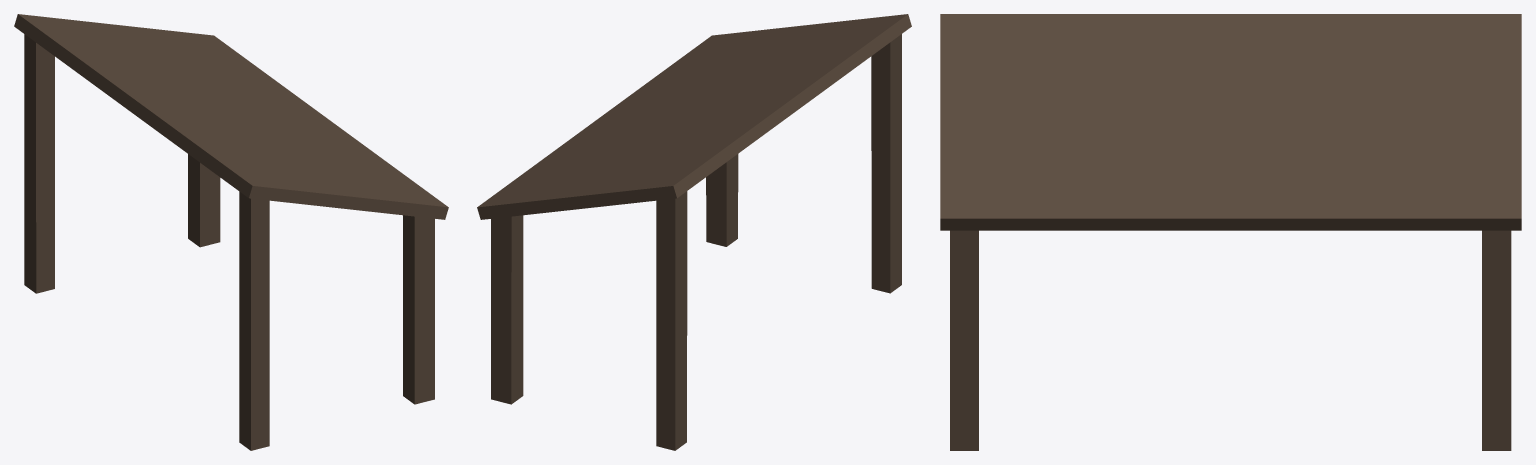
File: lvl1_desk.fbx
3 views of the same model, side by side, from view 1: azimuth 30°, elevation 25°; view 2: azimuth 150°, elevation 25°; view 3: azimuth 270°, elevation 25° (orthographic). The views are drawn at different scales.
Parts seen in each view (by area): view 1: desk; view 2: desk; view 3: desk.
Boxes of the visible parts, left/top/right/bottom form: desk: left=14, top=14, right=448, bottom=450; desk: left=477, top=14, right=911, bottom=450; desk: left=940, top=14, right=1521, bottom=450.
Bounding box in the file's own units: 204 × 261 × 414.
